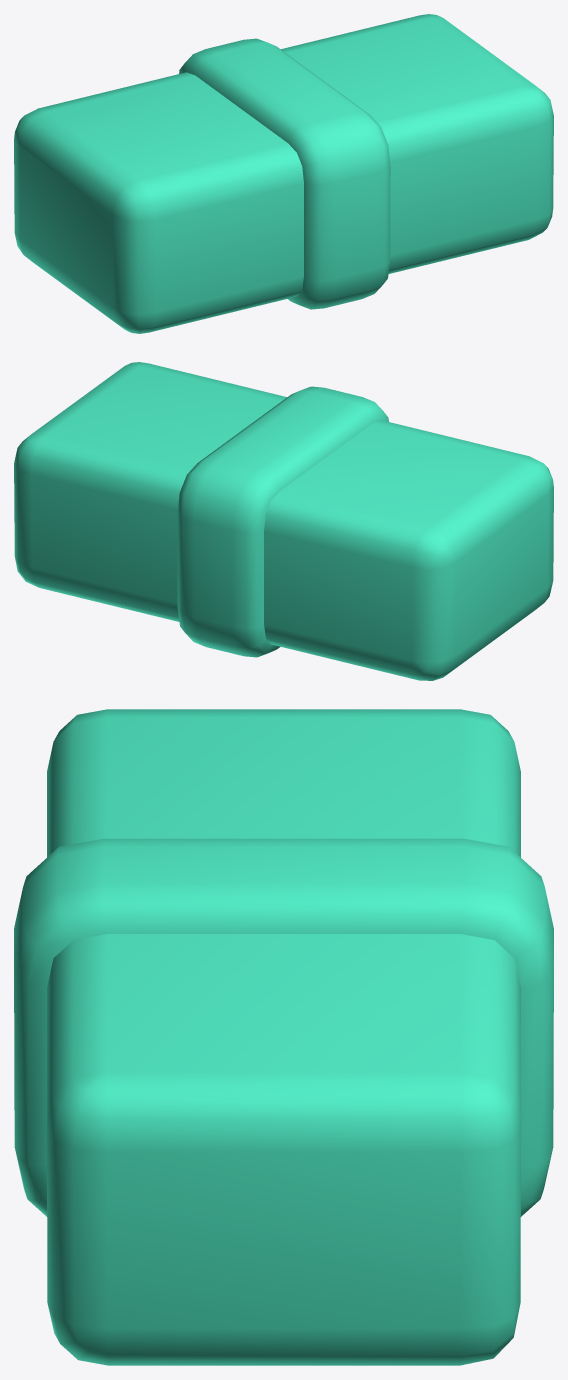
The model's file is MoneyBill_Big.FBX.
The picture shows the model from 3 angles, top to bottom: view 1: azimuth 30°, elevation 25°; view 2: azimuth 150°, elevation 25°; view 3: azimuth 270°, elevation 25°; orthographic projection. The views are drawn at different scales.
Parts seen in each view (by area): view 1: MoneyBill_Big; view 2: MoneyBill_Big; view 3: MoneyBill_Big.
Part boxes in pixels (x1,y1,x2,y2): MoneyBill_Big: (14,14,553,333); MoneyBill_Big: (14,362,553,680); MoneyBill_Big: (14,709,553,1365).
Bounding box in the file's own units: 29.37 × 11.68 × 16.53.
